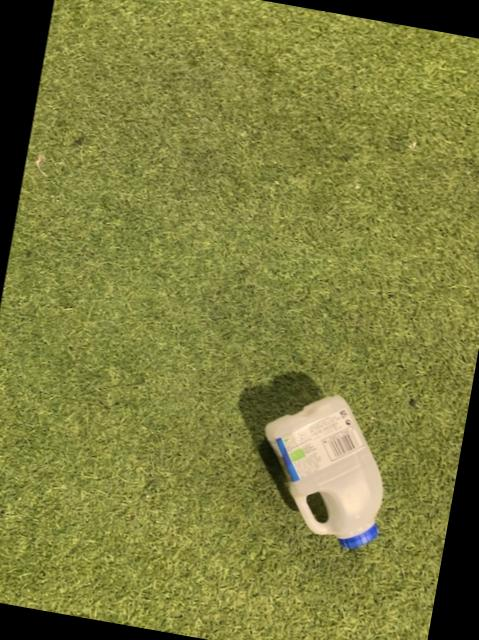plastic: (262, 396, 379, 548)
